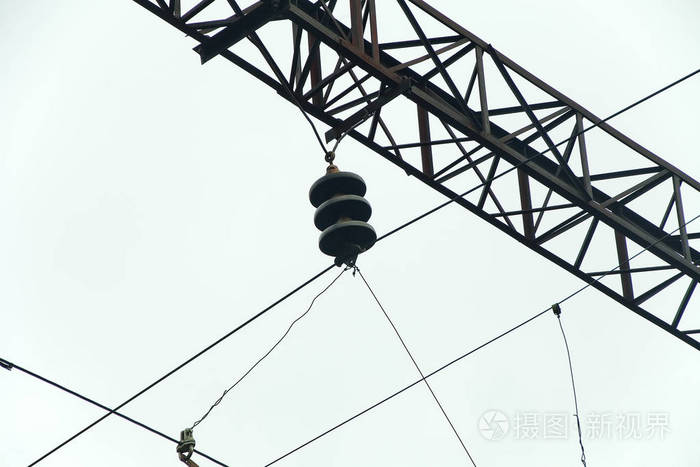insulator: (311, 169, 377, 255)
